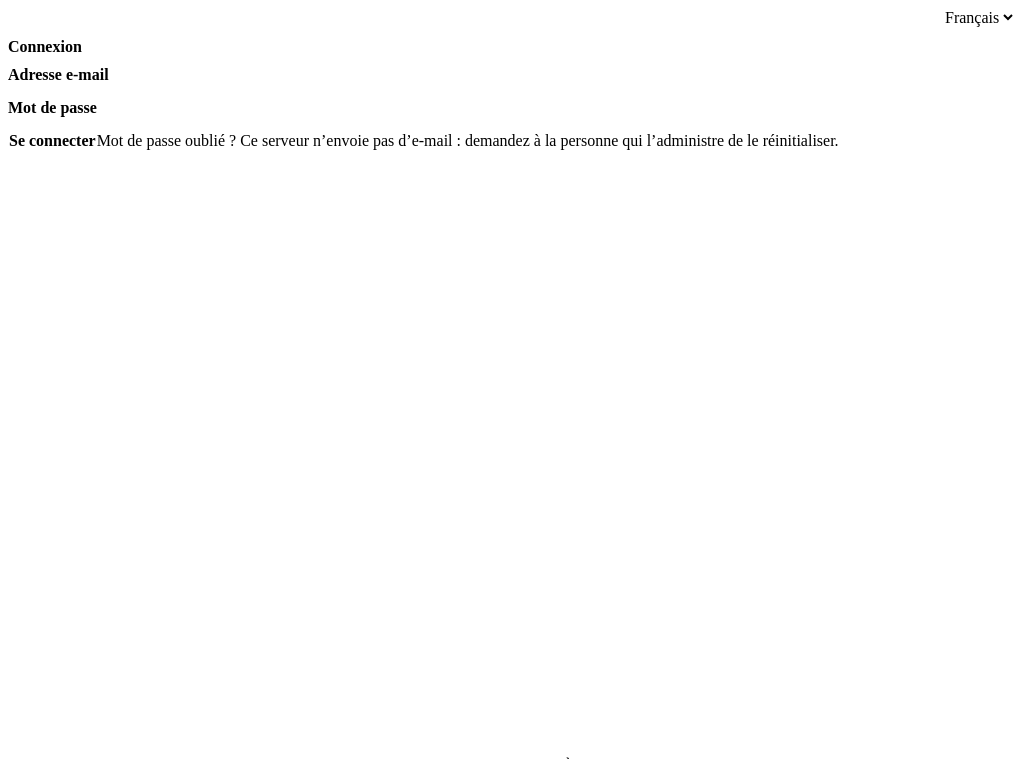
Test: what is asked again because the answer changed › lets a host in after signing in, though the page had already been told nobody was
The image size is (1024, 759).
Type "organisation@example.com" into the field labelled "Adresse e-mail".
click(512, 92); type("organisation@example.com")  # box [8, 84, 1016, 99]
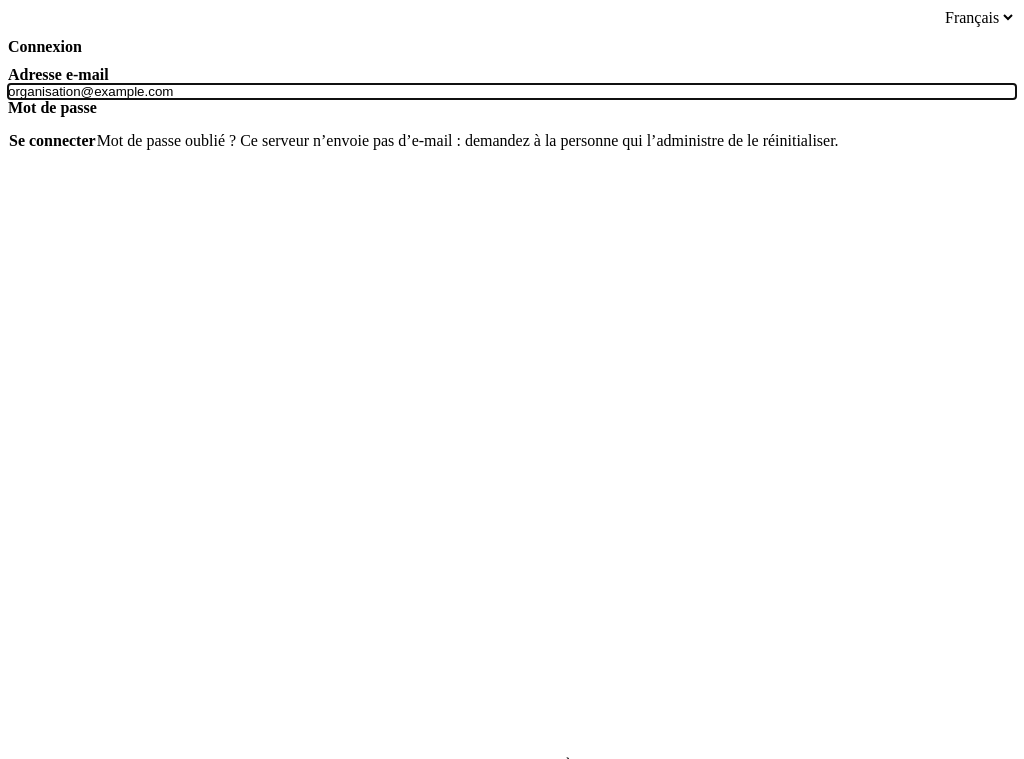
Type "un-mot-de-passe-long" into the password field labelled "Mot de passe".
click(512, 125); type("un-mot-de-passe-long")  # box [8, 117, 1016, 132]
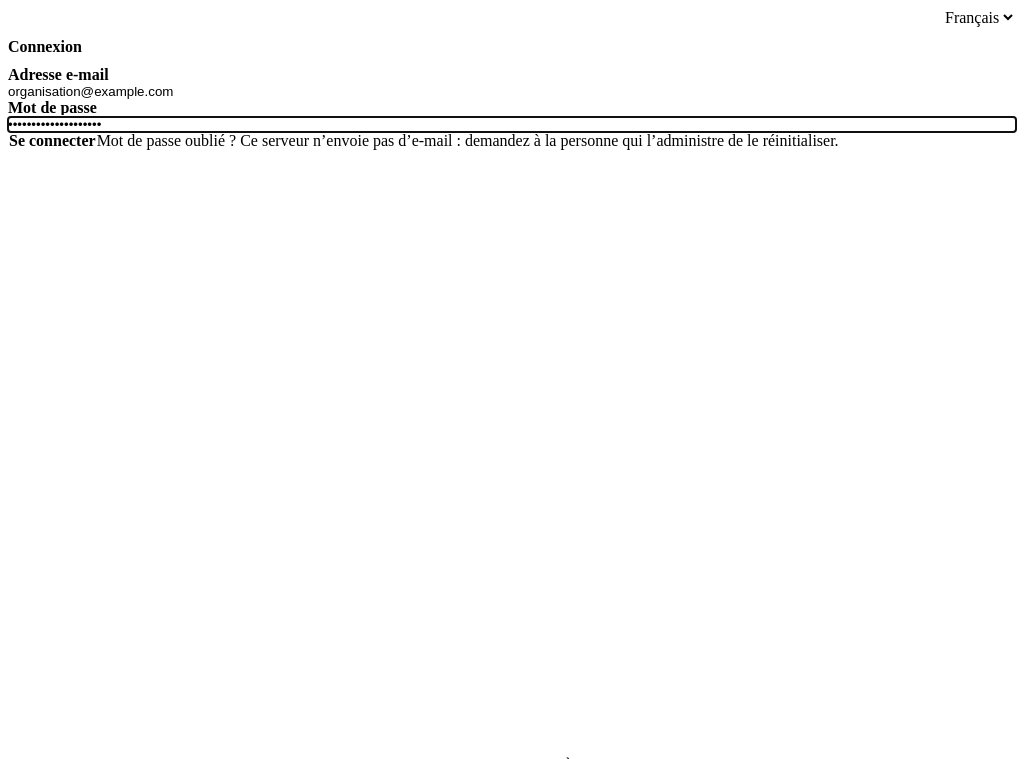
Click the button "Se connecter".
click(52, 141)  # box [8, 132, 97, 150]
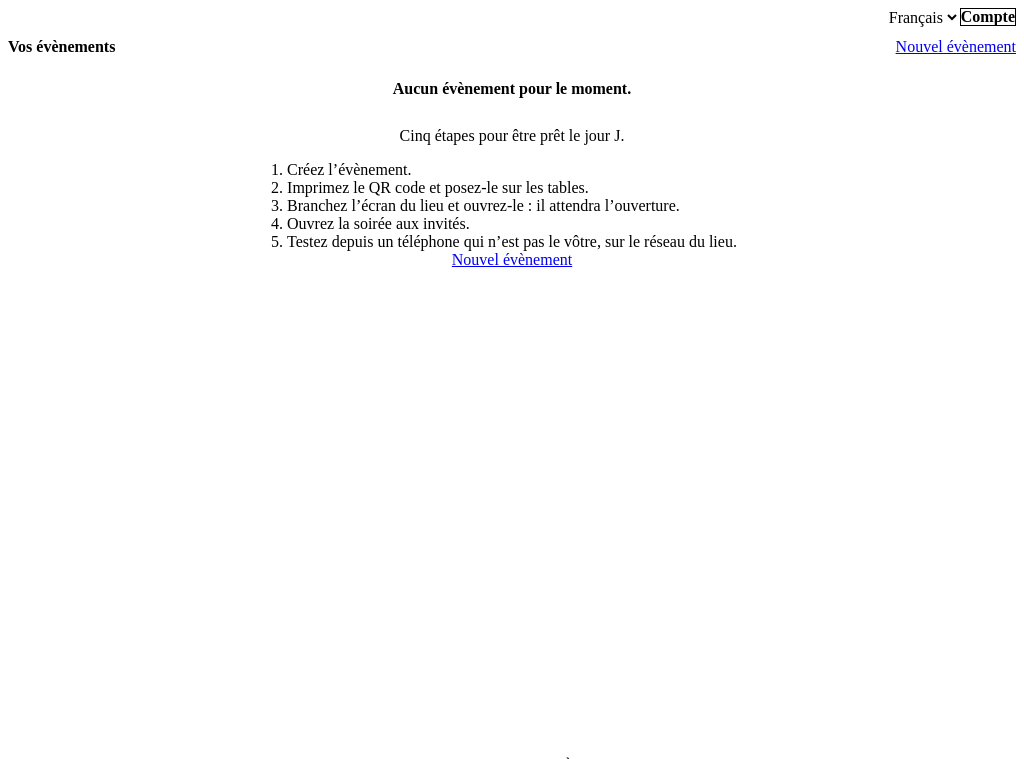
Expected: the heading "Vos évènements" is shown, [8, 38, 115, 56]
Expected: the heading "Connexion" is gone
